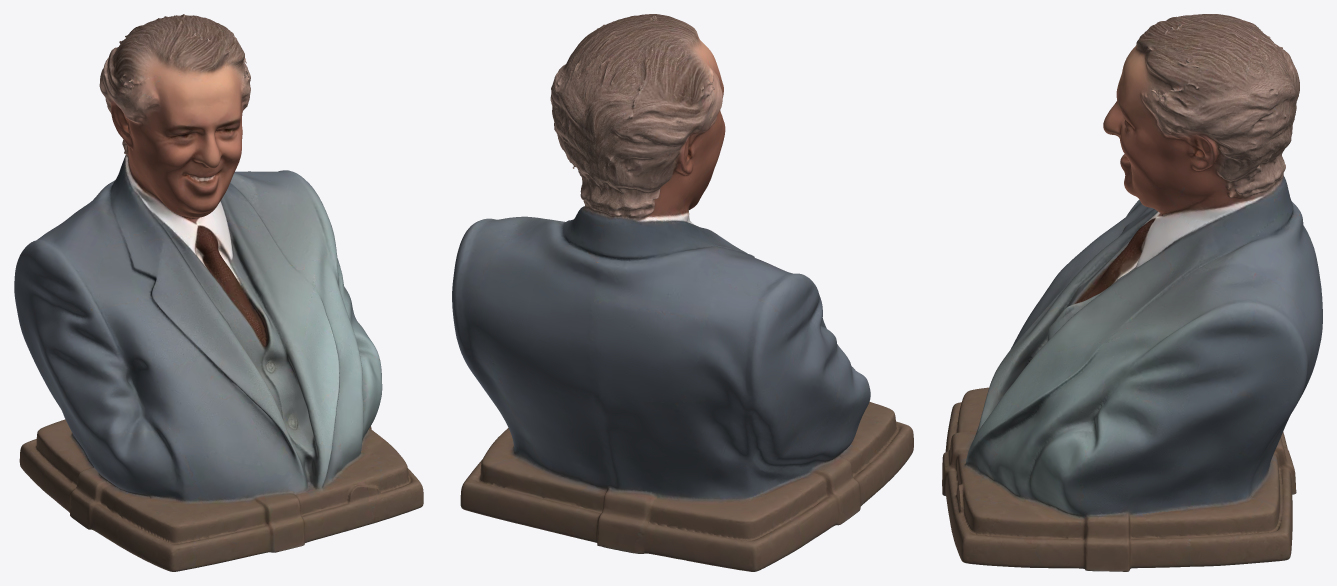
3 renders of one model, left to right at view 1: azimuth 30°, elevation 25°; view 2: azimuth 150°, elevation 25°; view 3: azimuth 270°, elevation 25°, orthographic. The views are drawn at different scales.
Bounding box in the file's own units: 1.36 × 1.9 × 1.38.
Materials: 1 (1 with a texture image).
